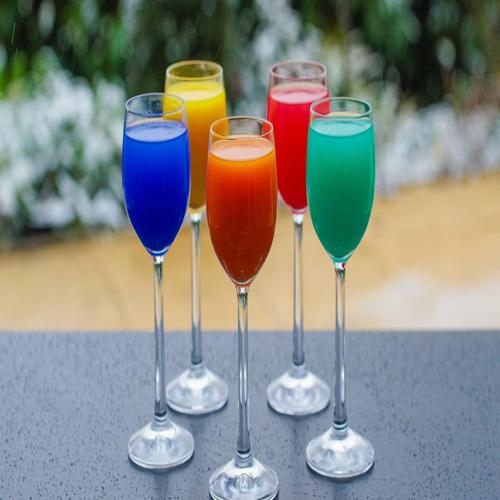copa: (206, 118, 284, 500), (124, 94, 197, 470), (307, 98, 377, 478), (162, 61, 233, 414), (267, 65, 332, 418)
